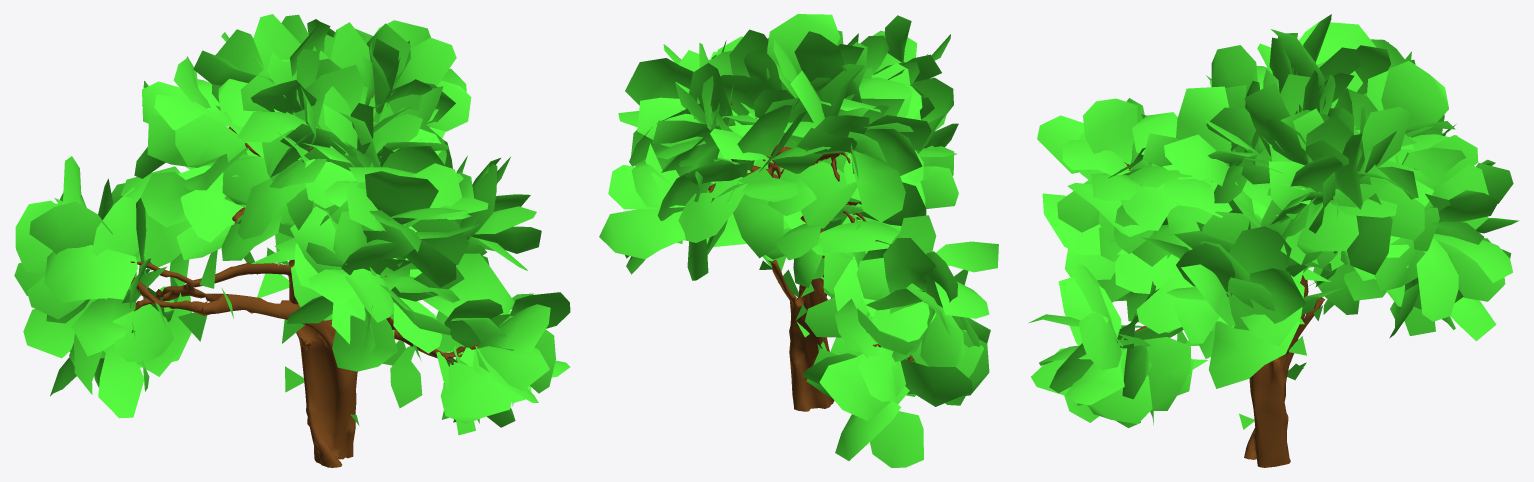
Rendered from Mesh_Tree_02.fbx.
3 views of the same model, side by side, from view 1: azimuth 30°, elevation 25°; view 2: azimuth 150°, elevation 25°; view 3: azimuth 270°, elevation 25° (orthographic). The views are drawn at different scales.
Parts seen in each view (by area): view 1: BRANCH_LOD0, TRUNK_LOD0; view 2: BRANCH_LOD0, TRUNK_LOD0; view 3: BRANCH_LOD0, TRUNK_LOD0.
Boxes of the visible parts, left/top/right/bottom form: BRANCH_LOD0: left=14, top=14, right=570, bottom=435; TRUNK_LOD0: left=130, top=92, right=480, bottom=467; BRANCH_LOD0: left=599, top=14, right=998, bottom=467; TRUNK_LOD0: left=708, top=93, right=930, bottom=411; BRANCH_LOD0: left=1028, top=14, right=1519, bottom=429; TRUNK_LOD0: left=1120, top=162, right=1333, bottom=467.
Size of what is drawn, in the model's own units: 332 by 325 by 340.
